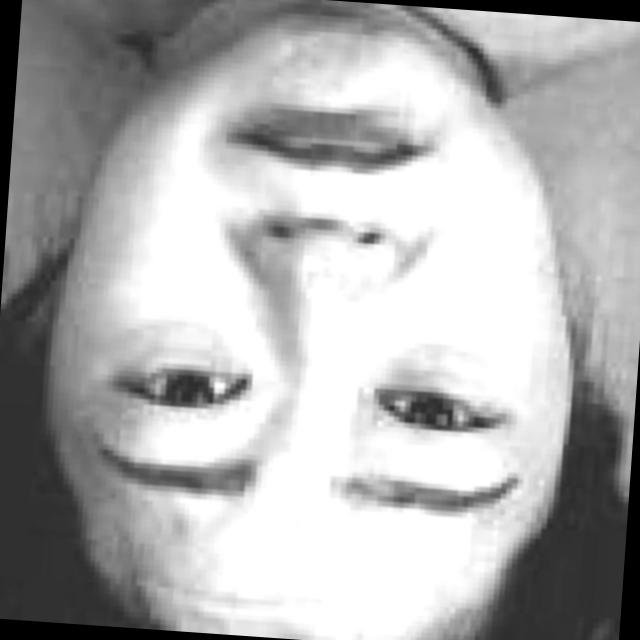sad: (33, 14, 571, 567)
